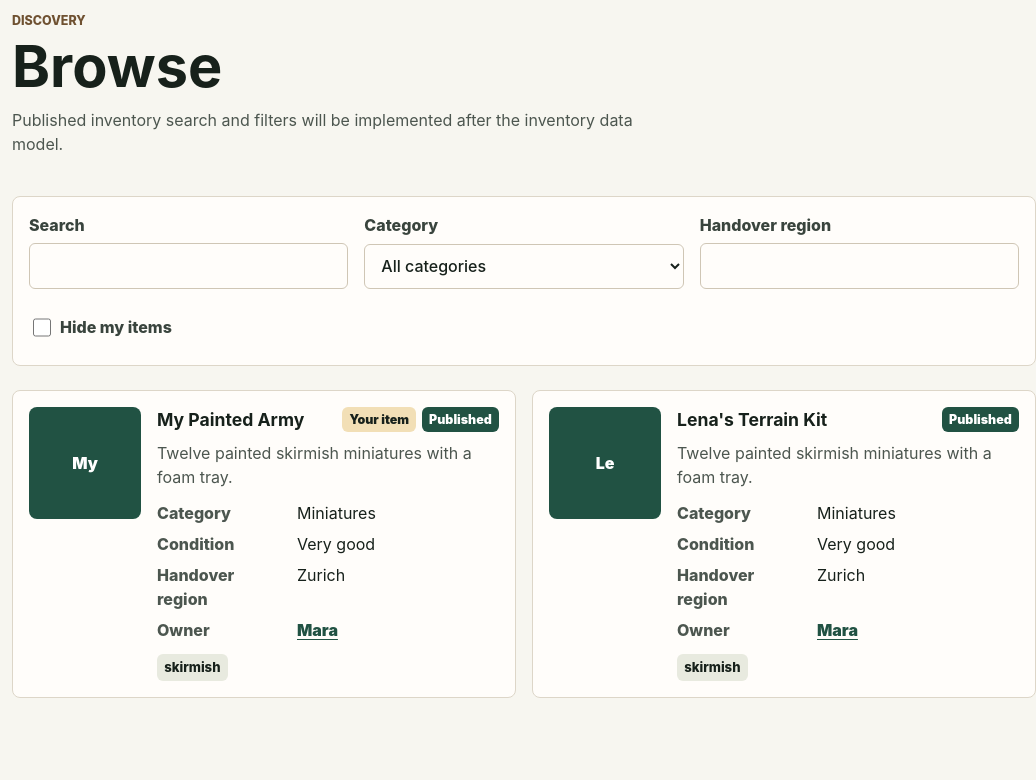
Test: BrowsePage › can hide items owned by the current user
Expected: the link "My Painted Army" is shown, [157,409,304,430]
Expected: the link "Lena's Terrain Kit" is shown, [677,409,827,430]
Click the checkbox labelled "Hide my items" at x=42, y=327, box [33,318,51,336]
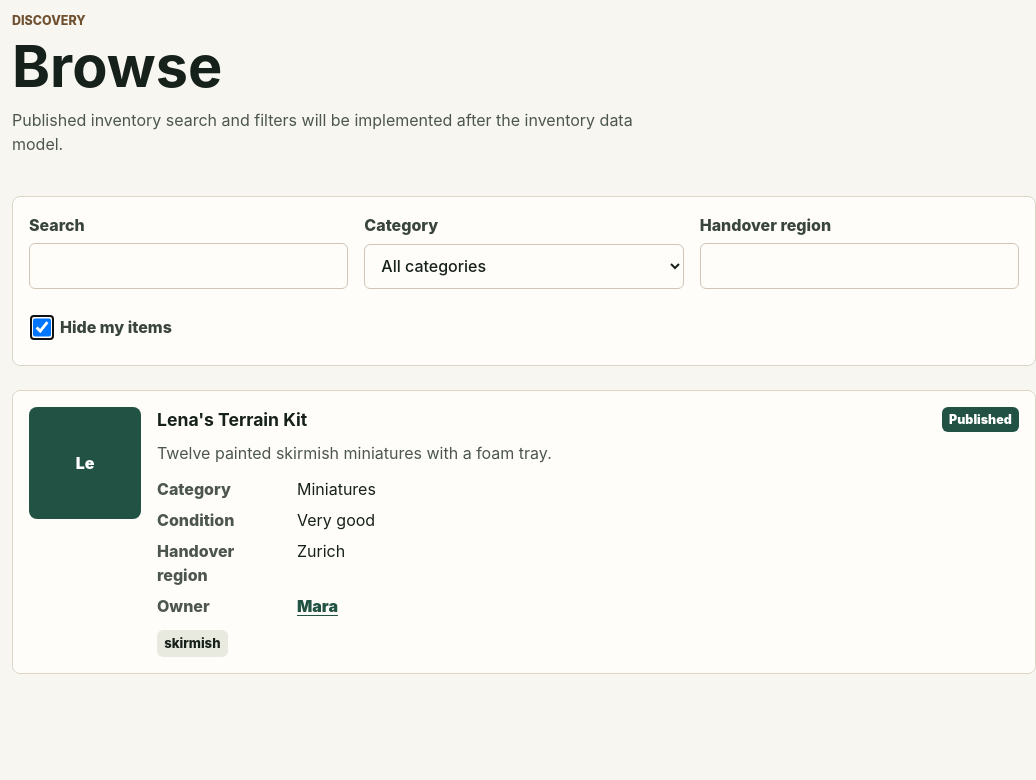
Expected: the link "Lena's Terrain Kit" is shown, [157,409,307,430]
Expected: the link "My Painted Army" is gone
